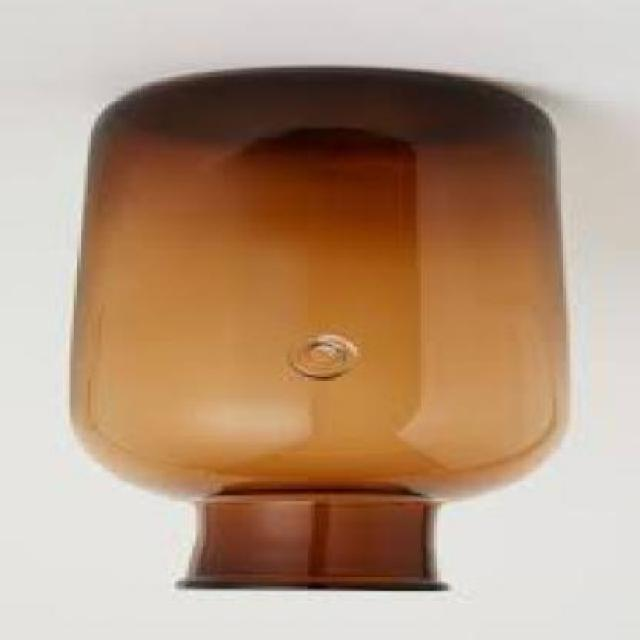GLASS: (62, 68, 570, 594)
